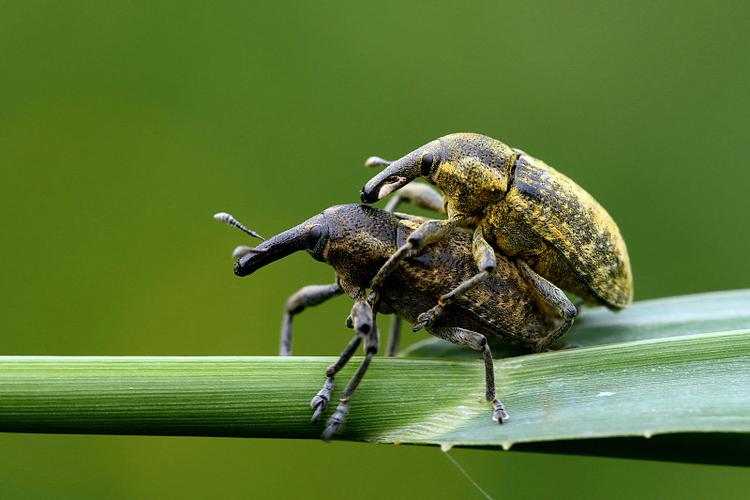Curculionidae: (213, 201, 579, 445), (360, 131, 634, 355)
